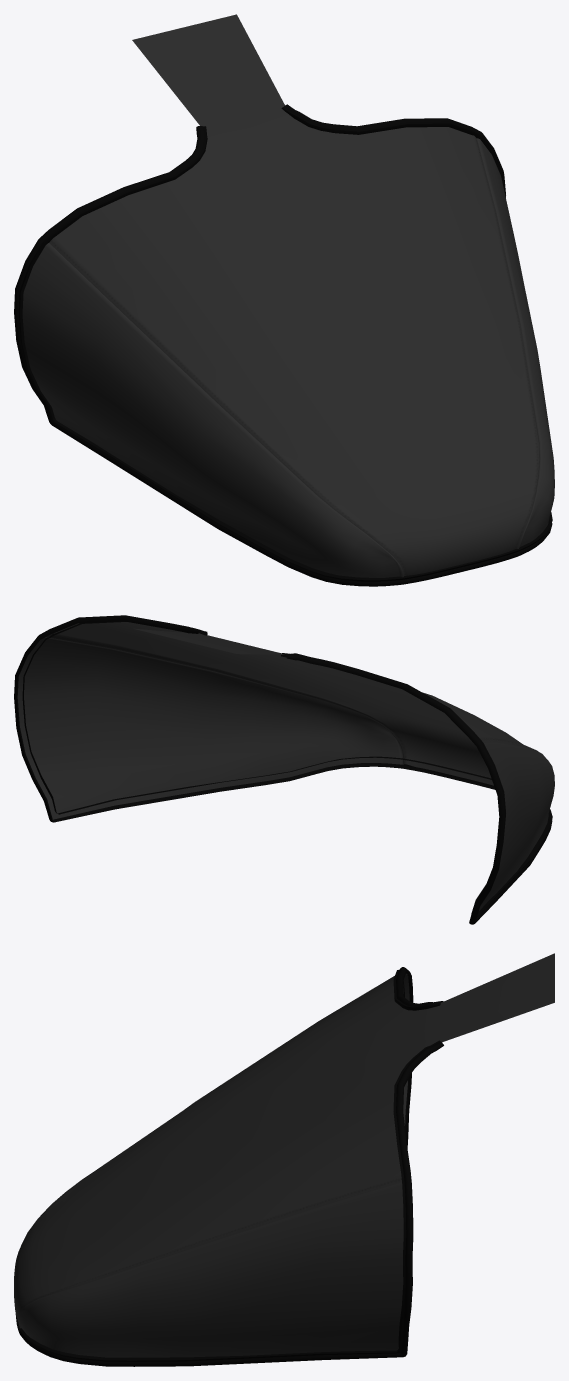
Rendered from Tank_Bra_CARBON_1K.glb.
3 views of the same model, one above another, from view 1: azimuth 30°, elevation 25°; view 2: azimuth 150°, elevation 25°; view 3: azimuth 270°, elevation 25° (orthographic). The views are drawn at different scales.
Visible parts, largest first — view 1: TankBra_CARBON_1K; view 2: TankBra_CARBON_1K; view 3: TankBra_CARBON_1K.
Part boxes in pixels (x1,y1,x2,y2): TankBra_CARBON_1K: (14,14,554,586); TankBra_CARBON_1K: (14,615,554,924); TankBra_CARBON_1K: (14,953,554,1366).
Size of the model in its own units: 0.3746 by 0.2495 by 0.3696.
2 materials, 2 textured.
